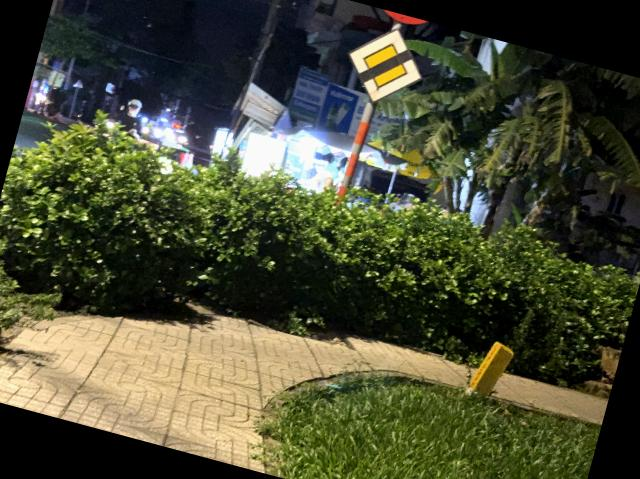het-duong-uu-tien: (336, 16, 434, 114)
